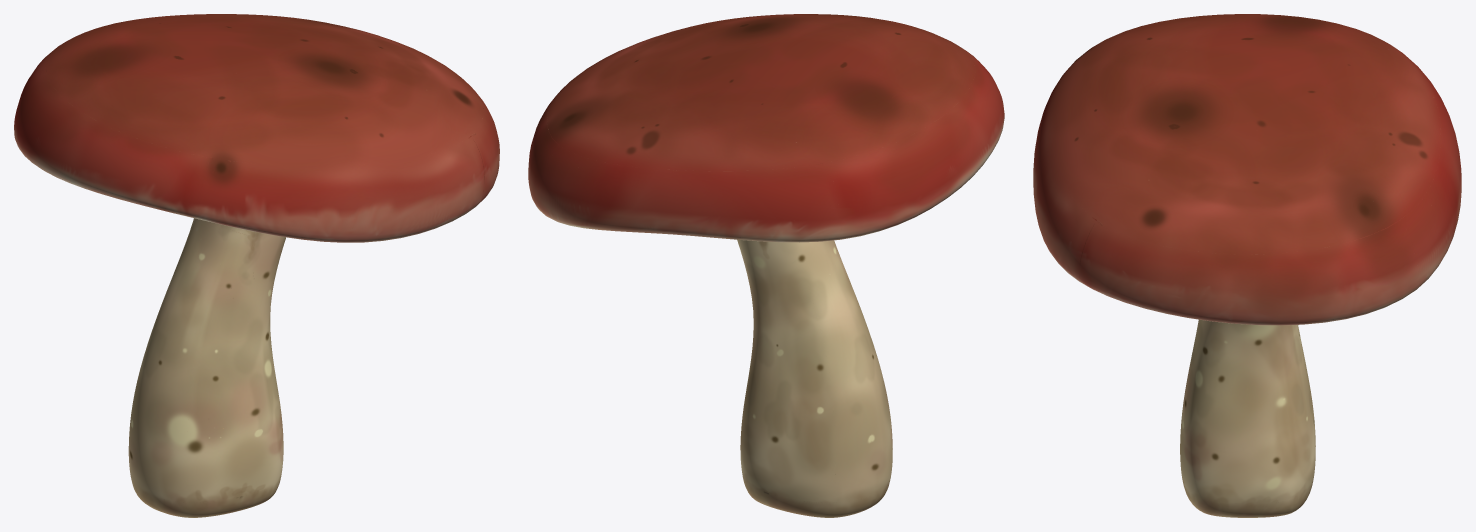
The model's file is Mushroom_LOD0.fbx.
The picture shows the model from 3 angles, left to right: view 1: azimuth 30°, elevation 25°; view 2: azimuth 150°, elevation 25°; view 3: azimuth 270°, elevation 25°; orthographic projection.
Parts seen in each view (by area): view 1: Mushroom_LOD0; view 2: Mushroom_LOD0; view 3: Mushroom_LOD0.
Part boxes in pixels (bbox=[...]): Mushroom_LOD0: bbox=[14, 14, 499, 517]; Mushroom_LOD0: bbox=[528, 14, 1004, 517]; Mushroom_LOD0: bbox=[1033, 14, 1461, 517].
Size of the model in its own units: 12.2 by 12.43 by 10.82.
